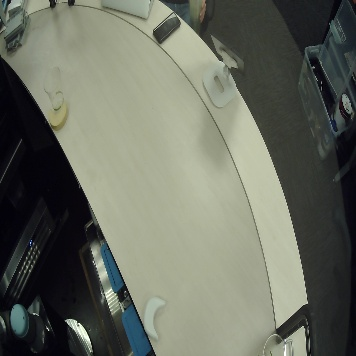empty_cup: (43, 66, 65, 109), (258, 331, 293, 355)
puck: (143, 298, 168, 339), (49, 104, 69, 134)
